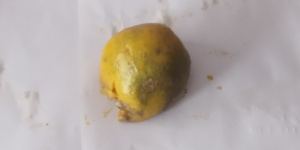BAD: (100, 24, 193, 123)
